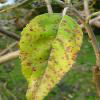Apple Scab Leaf: (18, 11, 82, 100)
